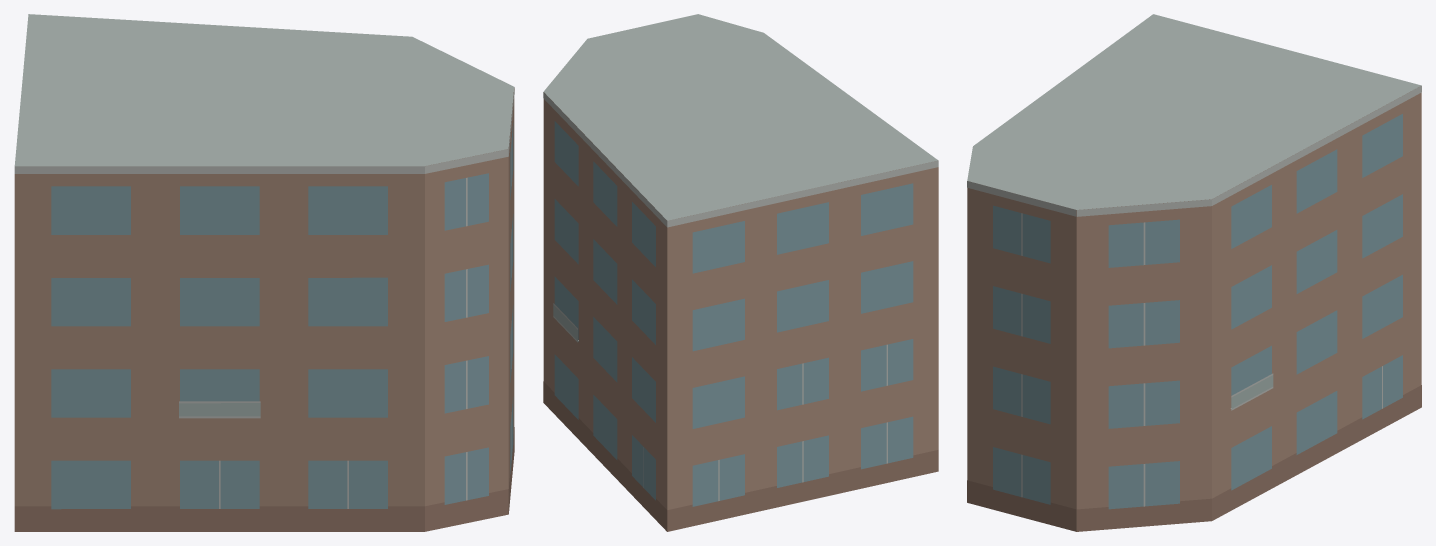
Rendered from survey-upis-32473524.glb.
The picture shows the model from 3 angles, left to right: view 1: azimuth 30°, elevation 25°; view 2: azimuth 150°, elevation 25°; view 3: azimuth 270°, elevation 25°; orthographic projection. The views are drawn at different scales.
Visible parts, largest first — view 1: survey-upis-32473524.tmp; view 2: survey-upis-32473524.tmp; view 3: survey-upis-32473524.tmp.
Boxes of the visible parts, bbox=[...] form: survey-upis-32473524.tmp: bbox=[14, 14, 514, 531]; survey-upis-32473524.tmp: bbox=[543, 14, 938, 531]; survey-upis-32473524.tmp: bbox=[967, 14, 1421, 531].
Size of the model in its own units: 14.9 by 11.4 by 14.6.
